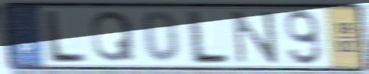0: (139, 9, 183, 65)
9: (282, 8, 325, 67)
L: (187, 8, 233, 66), (44, 7, 90, 65)
N: (230, 9, 282, 66)
Q: (90, 9, 138, 64)
